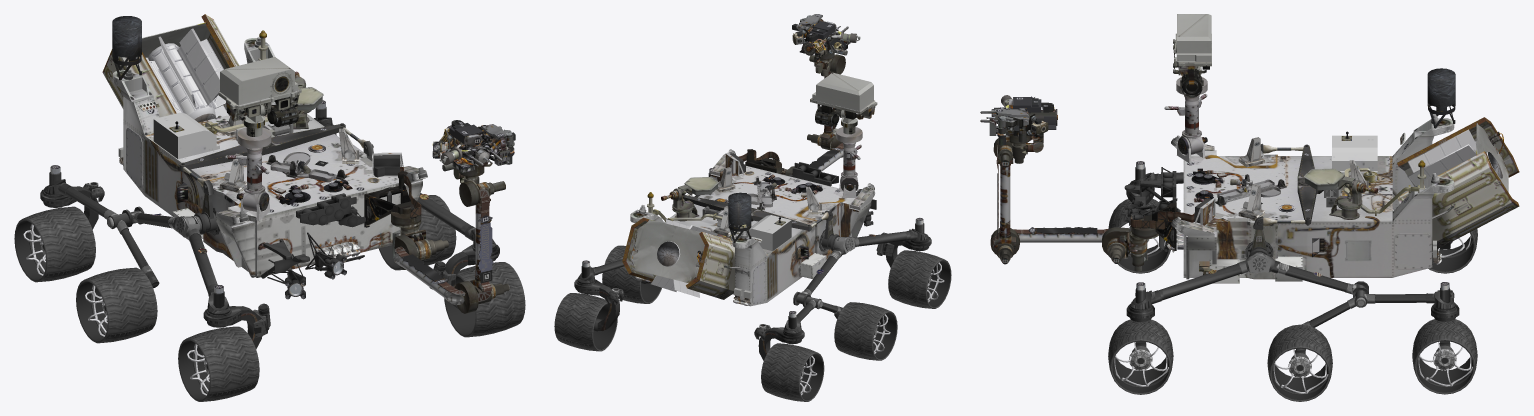
Rendered from rover.gltf.
3 renders of one model, left to right at view 1: azimuth 30°, elevation 25°; view 2: azimuth 150°, elevation 25°; view 3: azimuth 270°, elevation 25°, orthographic. The views are drawn at different scales.
Visible parts, largest first — view 1: node_id15_9, node_id30_19, node_id9_5, node_id12_7, node_id18_11, node_id24_15, node_id6_3, node_id27_17, node_id21_13; view 2: node_id30_19, node_id15_9, node_id18_11, node_id9_5, node_id12_7, node_id24_15, node_id6_3, node_id27_17, node_id21_13; view 3: node_id15_9, node_id9_5, node_id12_7, node_id30_19, node_id18_11, node_id24_15, node_id6_3, node_id27_17.
Boxes of the visible parts, x1,y1,x2,y2 form: node_id15_9: (73,16,467,349); node_id30_19: (14,195,525,401); node_id9_5: (40,14,509,327); node_id12_7: (112,38,492,305); node_id18_11: (142,22,515,301); node_id24_15: (123,155,399,296); node_id6_3: (147,109,504,283); node_id27_17: (194,155,372,235); node_id21_13: (153,119,177,158); node_id30_19: (554,245,951,401); node_id15_9: (597,149,902,360); node_id18_11: (630,14,877,283); node_id9_5: (574,44,931,344); node_id12_7: (630,49,873,255); node_id24_15: (730,153,876,303); node_id6_3: (696,14,875,274); node_id27_17: (819,220,839,251); node_id21_13: (772,220,791,250); node_id15_9: (1129,68,1455,350); node_id9_5: (986,115,1519,327); node_id12_7: (994,118,1453,258); node_id30_19: (1108,199,1477,401); node_id18_11: (980,14,1508,250); node_id24_15: (1124,167,1433,264); node_id6_3: (996,97,1408,276); node_id27_17: (1245,229,1272,258).
Size of the model in its own units: 0.512 by 0.4079 by 0.7374.
